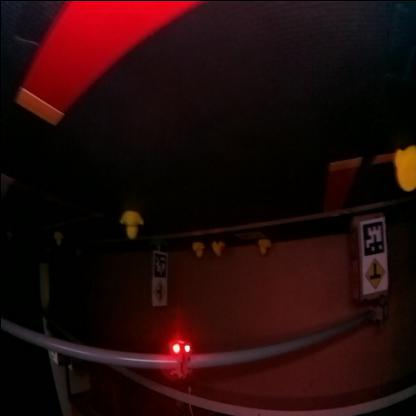Duckie: (392, 146, 414, 190), (118, 210, 141, 240), (256, 239, 270, 255), (211, 240, 223, 257), (190, 243, 202, 257), (52, 233, 61, 244)
Intersection sign: (362, 257, 386, 293), (152, 280, 166, 304)
QR code: (360, 221, 384, 252), (152, 253, 166, 277), (236, 231, 260, 240)
Traffic light: (171, 340, 190, 378)
